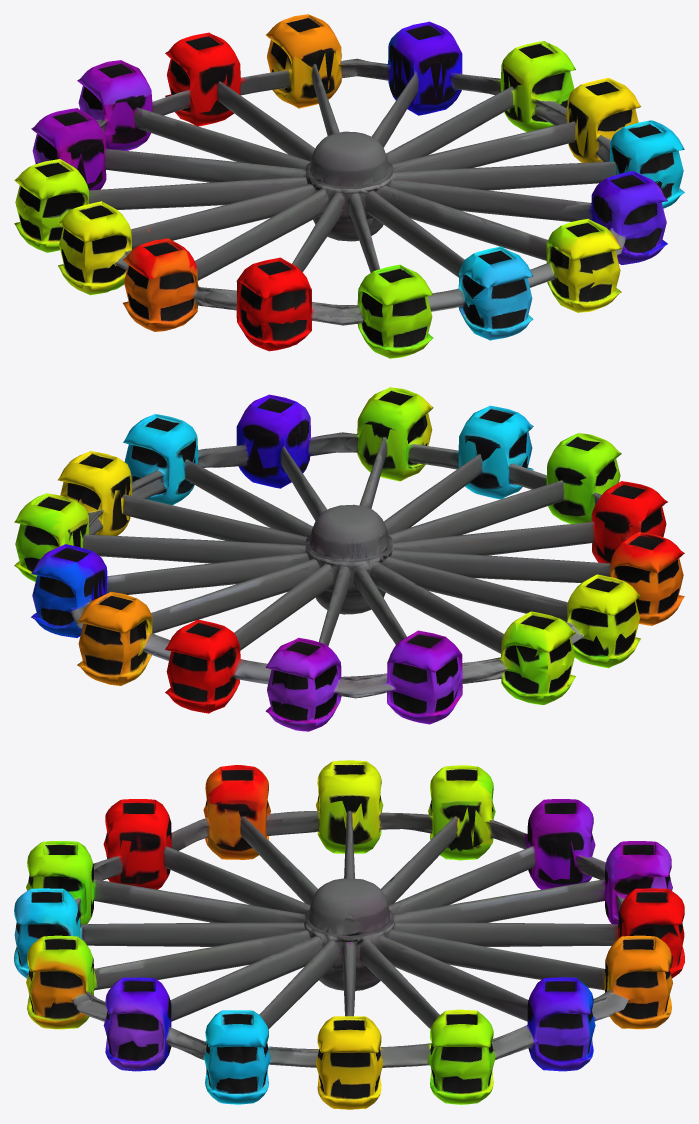
The model's file is wheel.glb.
3 views of the same model, one above another, from view 1: azimuth 30°, elevation 25°; view 2: azimuth 150°, elevation 25°; view 3: azimuth 270°, elevation 25° (orthographic). The views are drawn at different scales.
Visible parts, largest first — view 1: mesh_node; view 2: mesh_node; view 3: mesh_node.
Boxes of the visible parts, left/top/right/bottom form: mesh_node: left=14, top=14, right=684, bottom=358; mesh_node: left=14, top=387, right=684, bottom=731; mesh_node: left=14, top=760, right=684, bottom=1109.
Bounding box in the file's own units: 1.9 × 0.2914 × 1.9.
1 material, 1 textured.
